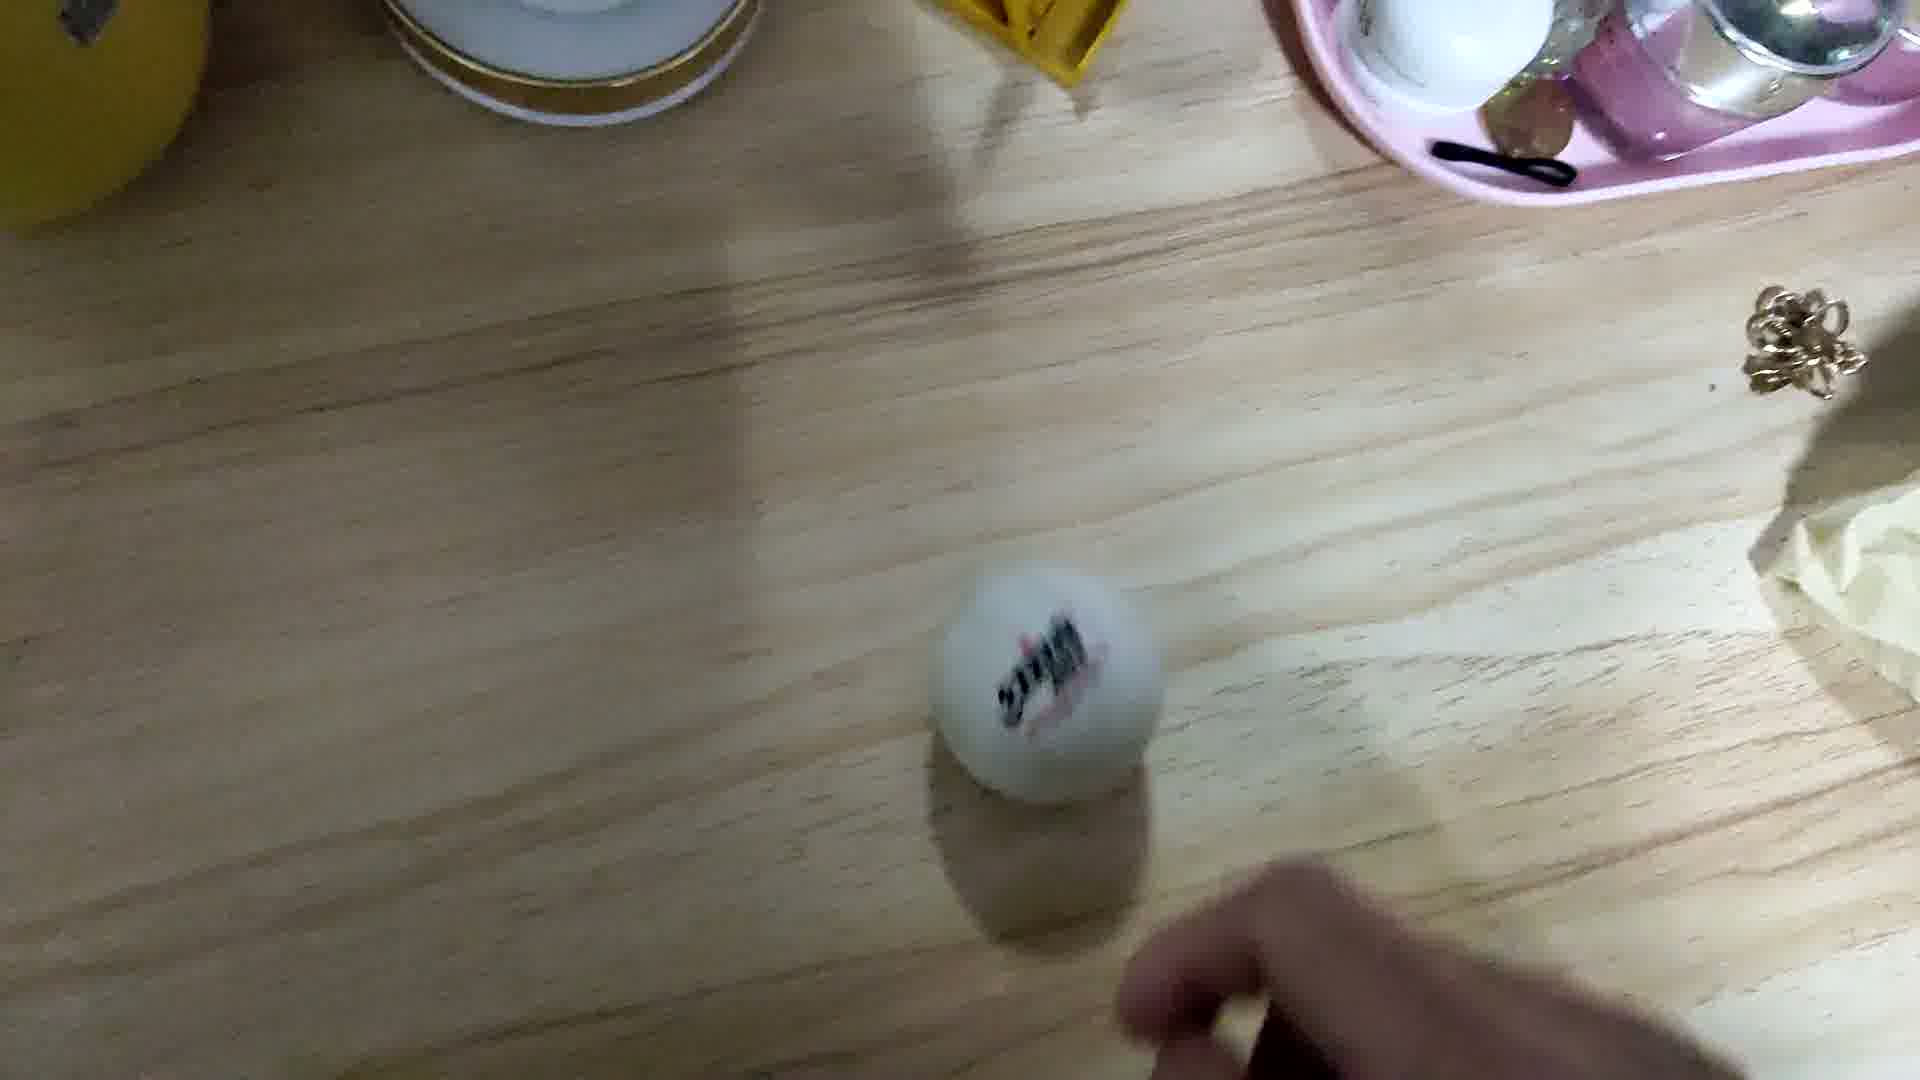Ball: (935, 563, 1164, 798)
